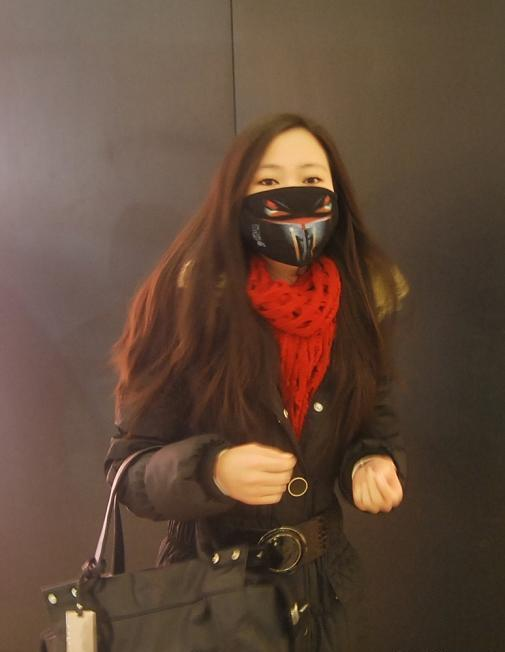OK: (244, 157, 352, 265)
